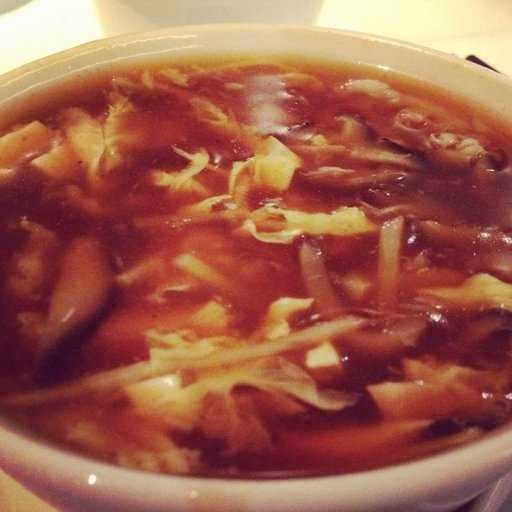soup: (1, 71, 496, 476)
